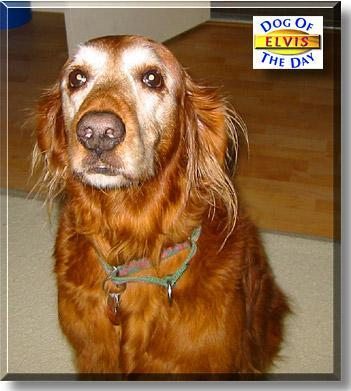Irish_setter: (20, 33, 292, 374)
